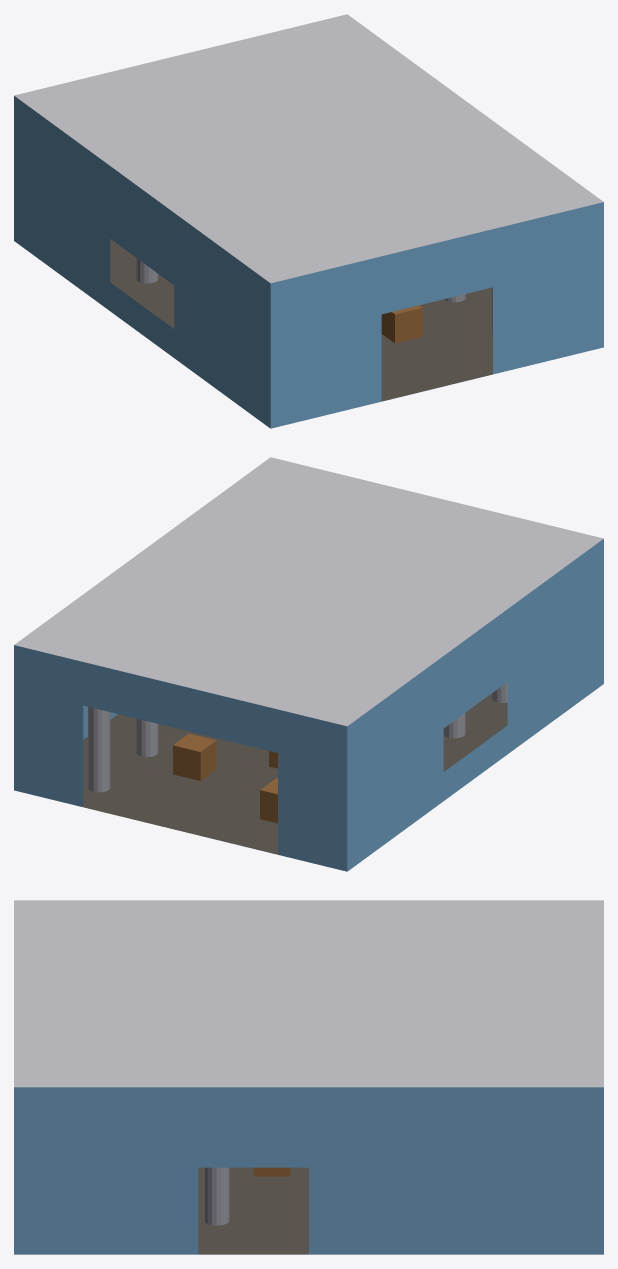
The model's file is level_fps_B.obj.
3 views of the same model, one above another, from view 1: azimuth 30°, elevation 25°; view 2: azimuth 150°, elevation 25°; view 3: azimuth 270°, elevation 25° (orthographic). The views are drawn at different scales.
Visible parts, largest first — view 1: B_hall; view 2: B_hall; view 3: B_hall.
Part boxes in pixels (x1,y1,x2,y2): B_hall: [14, 14, 603, 428]; B_hall: [14, 457, 603, 871]; B_hall: [14, 900, 603, 1254].
Bounding box in the file's own units: 12 × 5 × 16.
